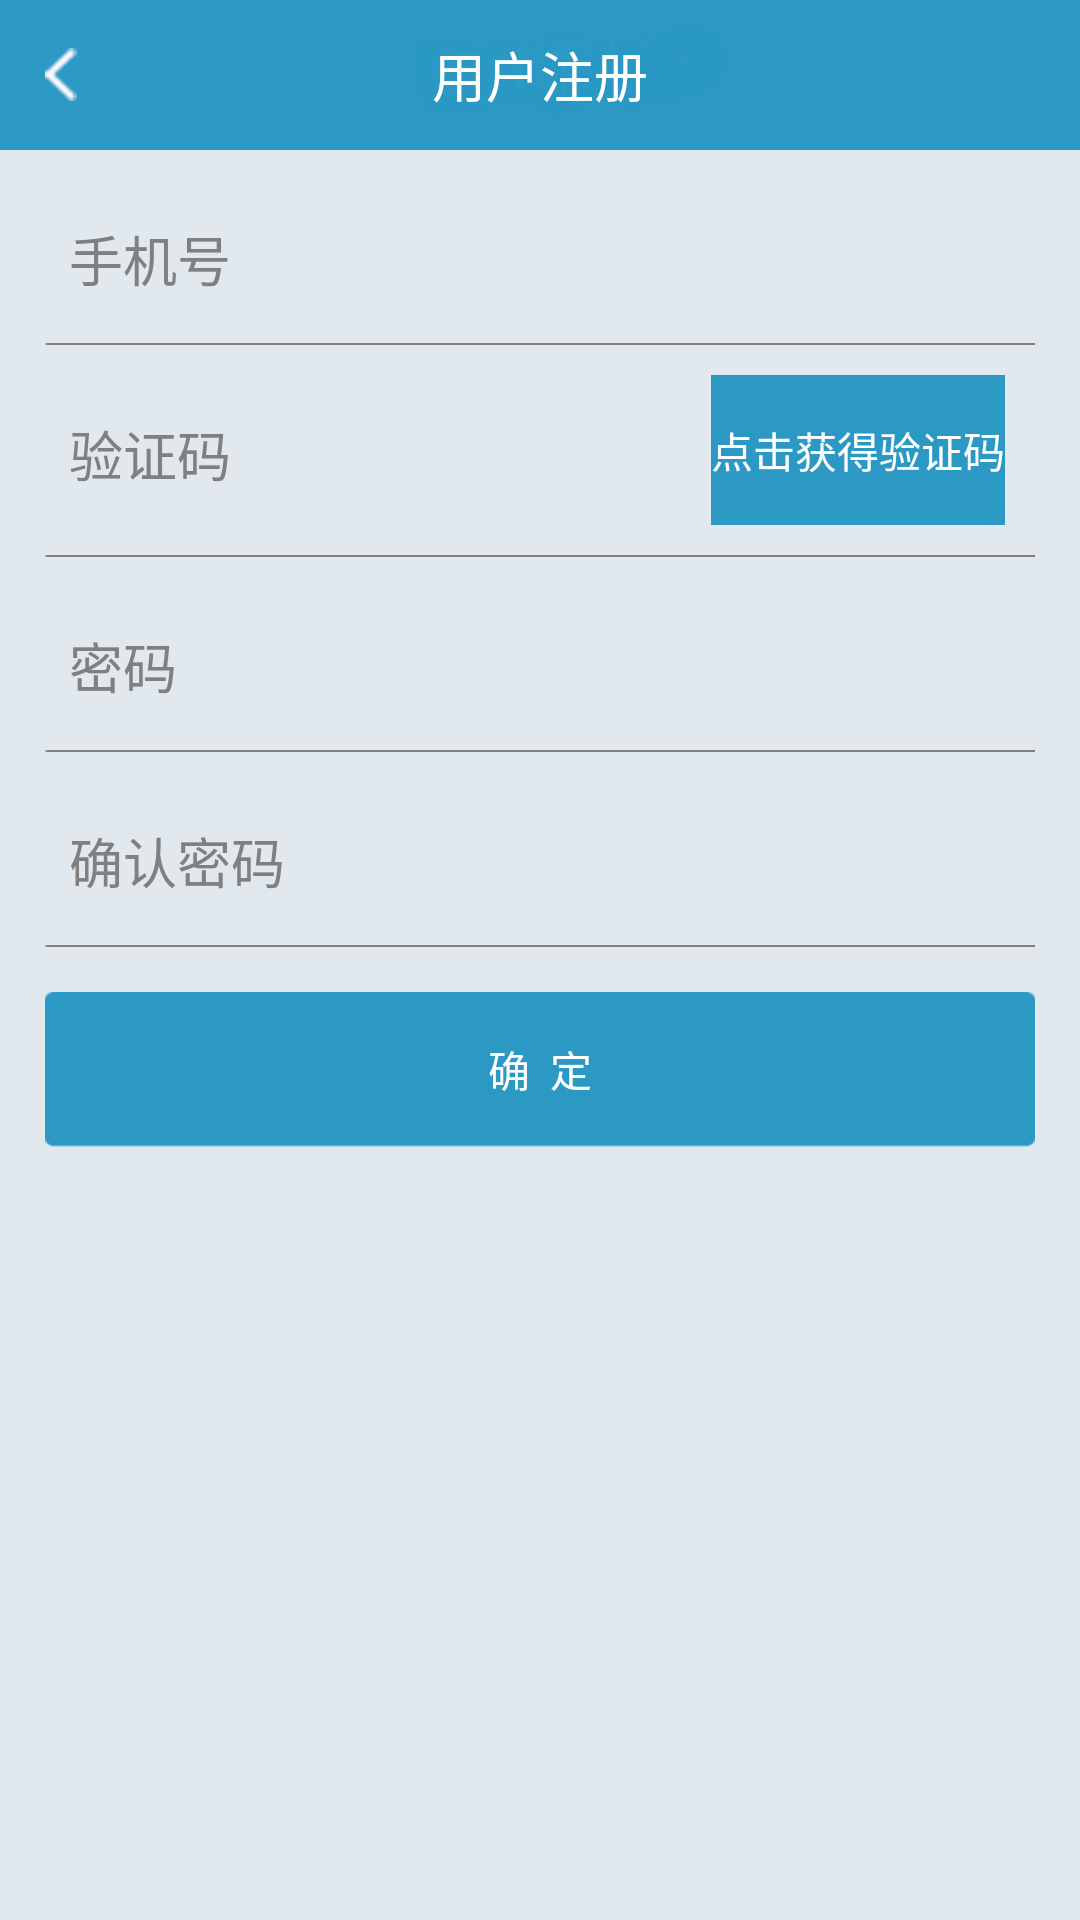

Named icons in this screenshot (1080px x 1920px) and their bounding boxes, (x1, y1, x2, y2):
back: (45, 48, 77, 101)
